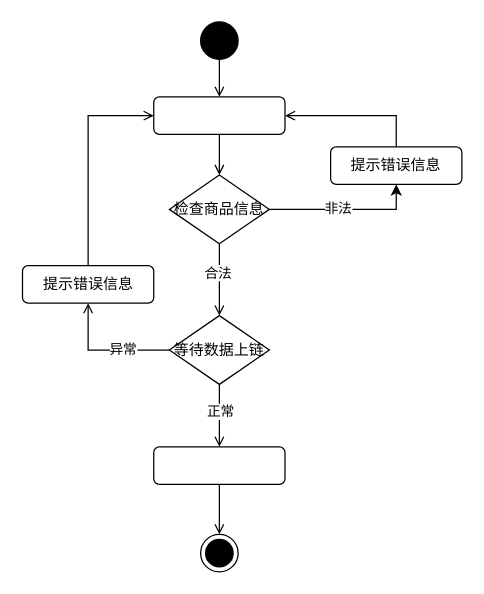
Some shapes in this 484 by 594 pixel diagram are drawn without their labels. The centre of each missing label's shape, as x and y in pixels:
"填写商品信息" belongs at point 218,115.
"提示添加成功" belongs at point 218,465.
